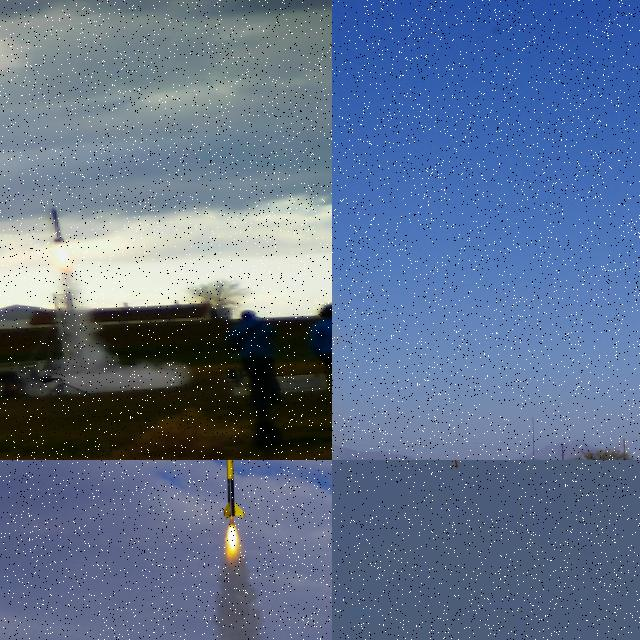Rocket: (222, 460, 246, 520), (49, 207, 68, 243), (452, 460, 458, 467)
